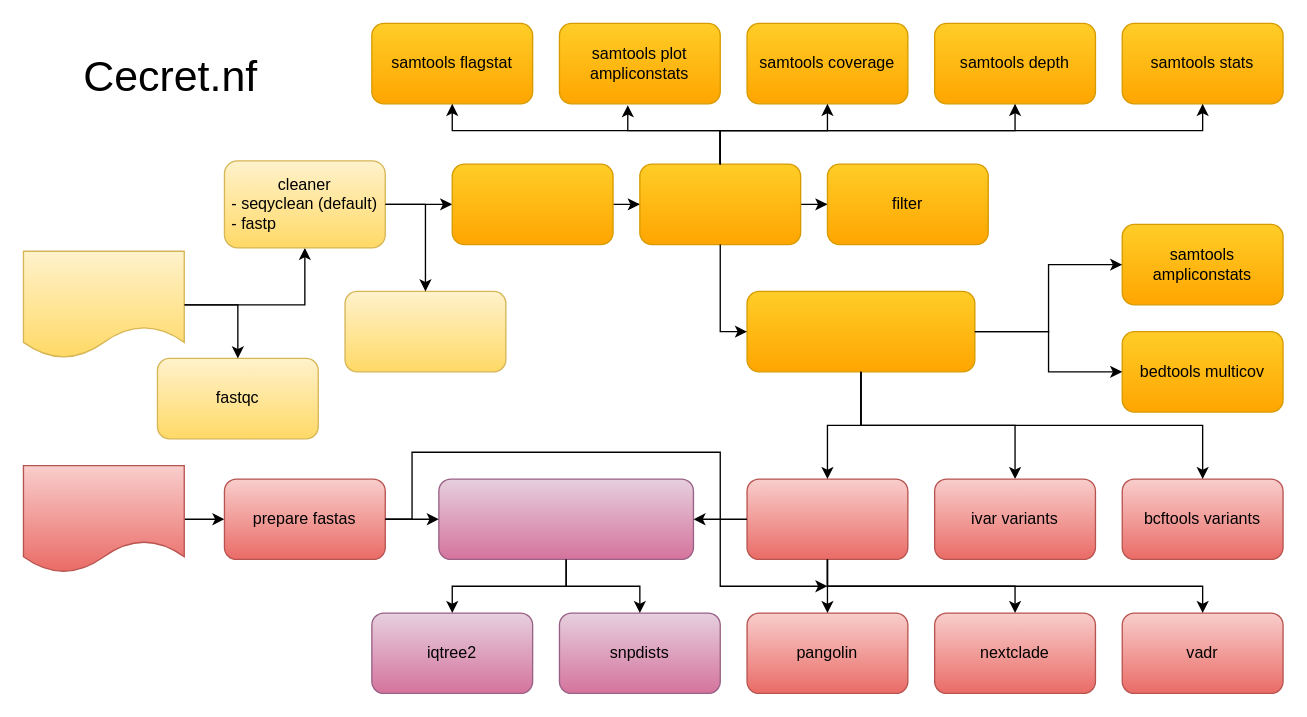
Image size: 1307x717. Some labels were removed from this diagram. The shapes that lost their labels are listed below. From the top down, each one's box as (x1, y1, x2, y2) in pixels, then its label:
(451, 163, 613, 245): alignment - bwa (default) - minimap2
(639, 163, 801, 245): sort
(22, 250, 184, 358): fastq
(344, 290, 506, 372): kraken2
(746, 290, 975, 372): primer trimming - ivar (default) - samtools ampliconclip
(22, 464, 184, 573): fasta
(438, 478, 693, 559): multiple sequence alignment - mafft (default) - nextalign
(746, 478, 908, 559): ivar consensus
